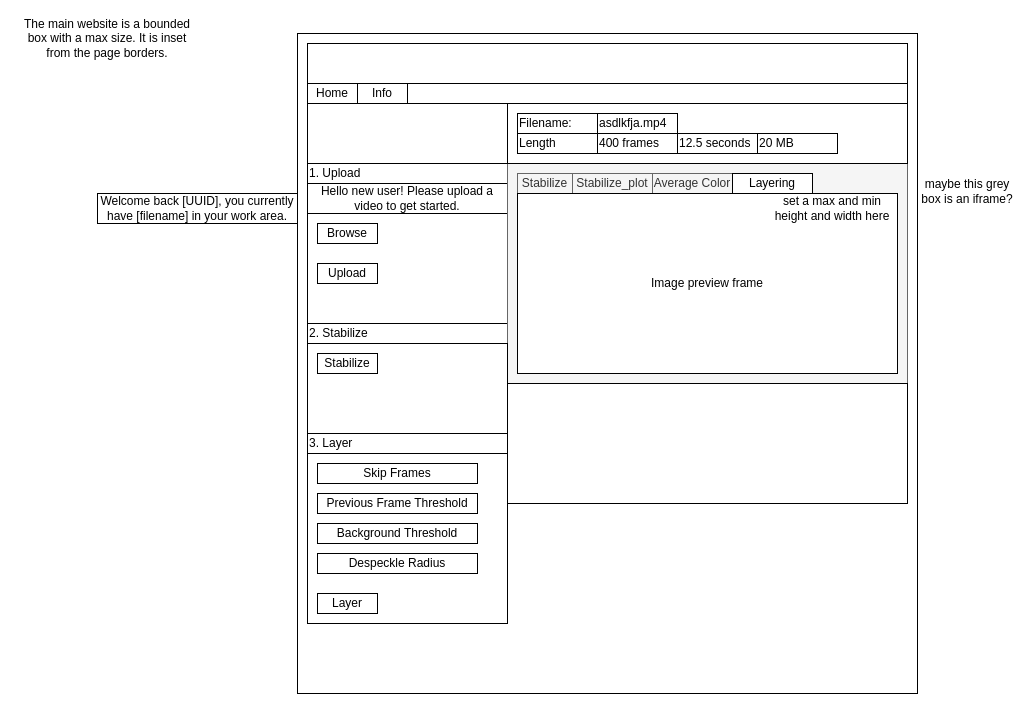
This 1034x711 diagram has some shape labels left out. Each missing label, with the centre of its shape:
"Birdflight" belongs at (x=607, y=63).
"Console output" belongs at (x=707, y=443).
"Turn a video into a stacked image of moving objects." belongs at (x=407, y=133).
